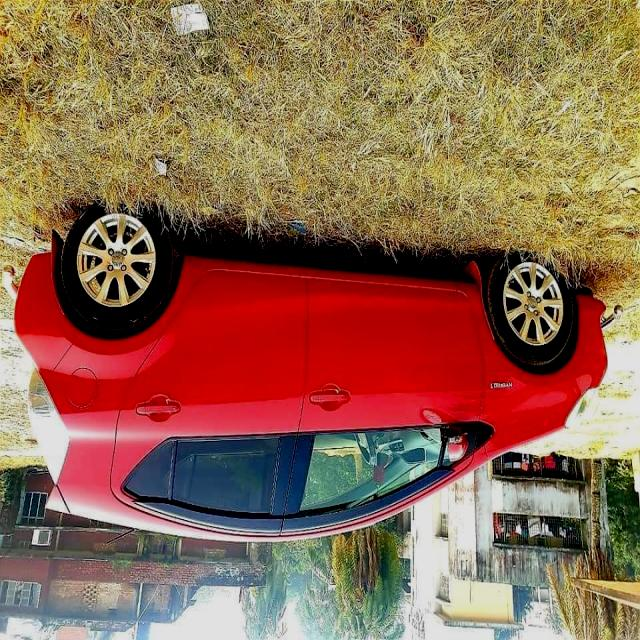red: (11, 195, 605, 545)
